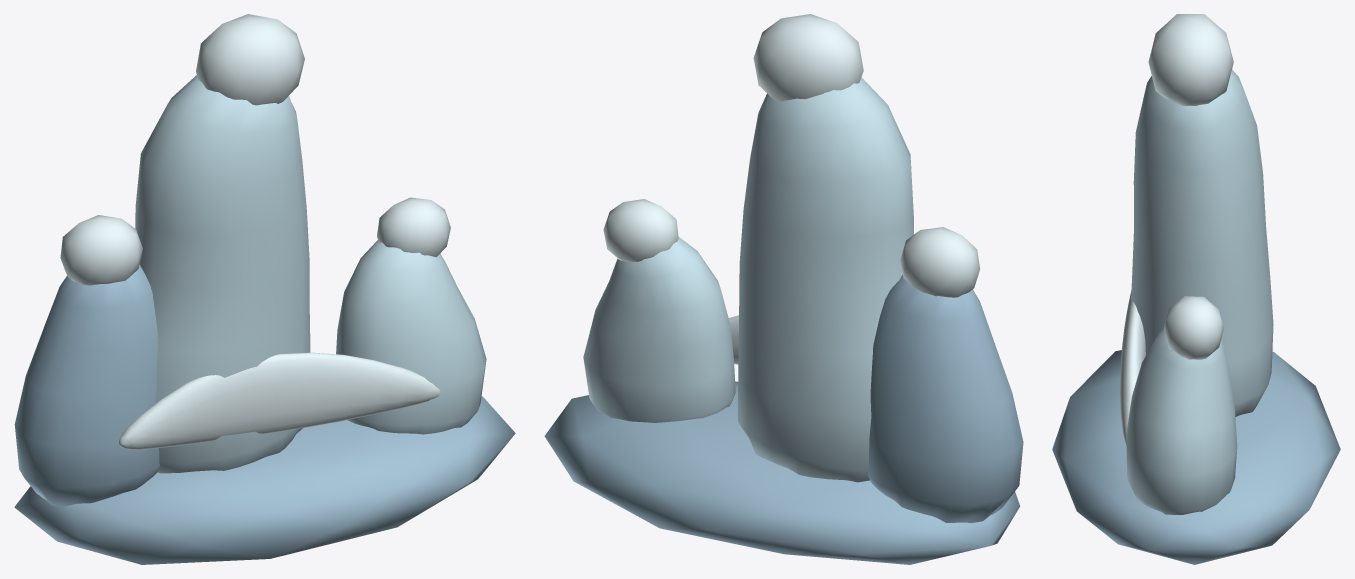
The model's file is ice_crystal_cluster.glb.
3 views of the same model, side by side, from view 1: azimuth 30°, elevation 25°; view 2: azimuth 150°, elevation 25°; view 3: azimuth 270°, elevation 25° (orthographic). The views are drawn at different scales.
Visible parts, largest first — view 1: tall_brine_column, sea_glass_shelf, left_brine_column, right_brine_column, undercut_ice_shelf, tall_round_cap, left_round_cap, right_round_cap; view 2: tall_brine_column, sea_glass_shelf, left_brine_column, right_brine_column, tall_round_cap, left_round_cap, right_round_cap; view 3: tall_brine_column, sea_glass_shelf, right_brine_column, tall_round_cap, right_round_cap, undercut_ice_shelf.
Part boxes in pixels (bbox=[...]): tall_brine_column: bbox=[135, 75, 310, 473]; sea_glass_shelf: bbox=[14, 396, 515, 564]; left_brine_column: bbox=[14, 264, 159, 506]; right_brine_column: bbox=[336, 240, 486, 434]; undercut_ice_shelf: bbox=[119, 352, 440, 449]; tall_round_cap: bbox=[196, 14, 304, 105]; left_round_cap: bbox=[60, 215, 142, 285]; right_round_cap: bbox=[377, 197, 450, 257]; tall_brine_column: bbox=[737, 77, 913, 482]; sea_glass_shelf: bbox=[544, 381, 1020, 564]; left_brine_column: bbox=[867, 275, 1023, 523]; right_brine_column: bbox=[583, 237, 735, 422]; tall_round_cap: bbox=[753, 14, 863, 101]; left_round_cap: bbox=[900, 227, 980, 297]; right_round_cap: bbox=[603, 199, 678, 261]; tall_brine_column: bbox=[1131, 69, 1273, 416]; sea_glass_shelf: bbox=[1052, 350, 1340, 564]; right_brine_column: bbox=[1126, 329, 1237, 514]; tall_round_cap: bbox=[1148, 14, 1233, 105]; right_round_cap: bbox=[1163, 296, 1223, 359]; undercut_ice_shelf: bbox=[1120, 291, 1145, 446].
Bounding box in the file's own units: 6.36 × 6.59 × 3.73.
